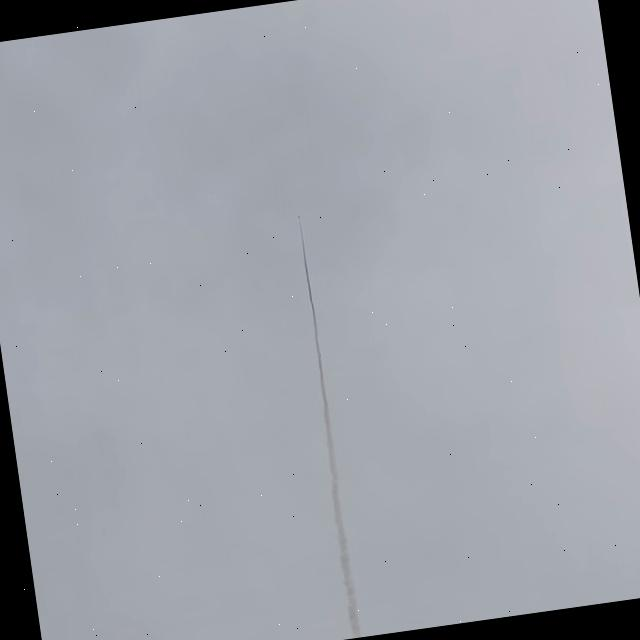smoke_trail_no_rocket: (316, 350, 362, 639)
